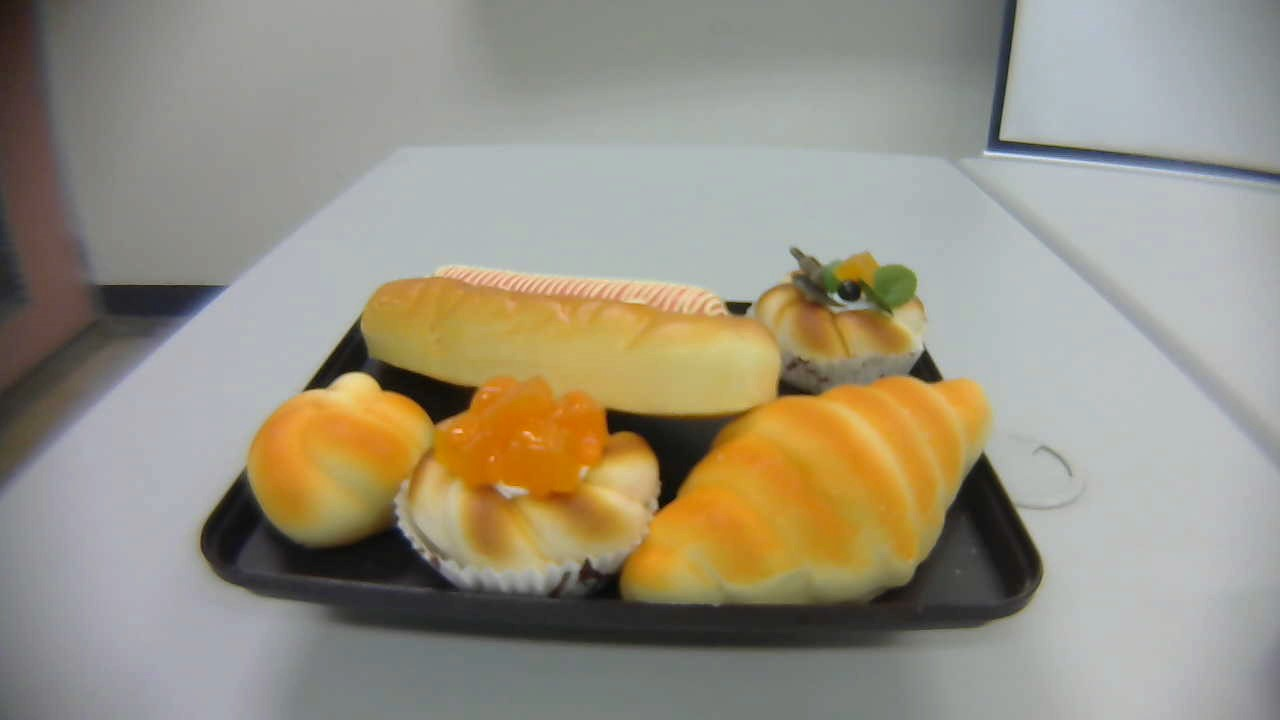croissant: (621, 368, 992, 607)
fruit tart: (747, 246, 928, 396)
hot dog: (360, 262, 782, 416)
mango tart: (394, 376, 661, 593)
twist bread: (245, 372, 434, 544)
